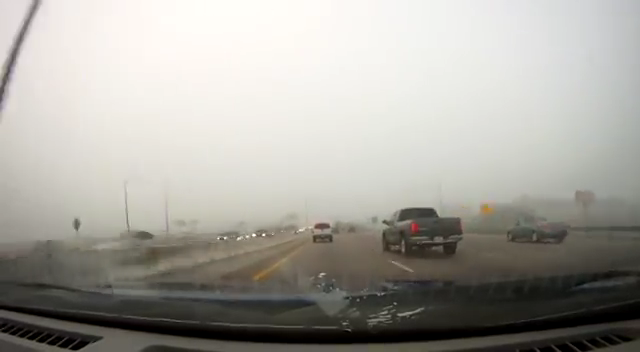car: (381, 207, 463, 255), (506, 213, 568, 244), (311, 222, 334, 243), (252, 229, 271, 241), (331, 226, 341, 234), (346, 225, 356, 233)
